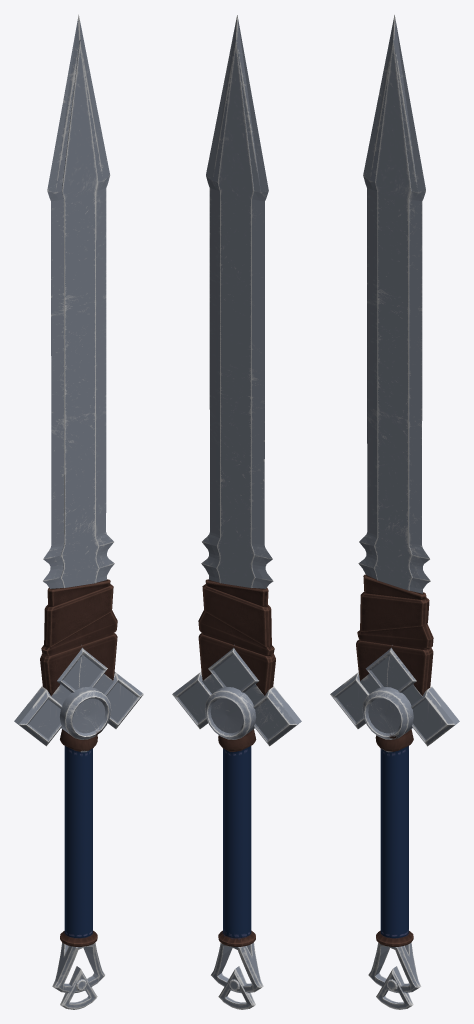
File: sword.fbx
The picture shows the model from 3 angles, left to right: view 1: azimuth 30°, elevation 25°; view 2: azimuth 150°, elevation 25°; view 3: azimuth 330°, elevation 25°; orthographic projection.
Visible parts, largest first — view 1: Sword; view 2: Sword; view 3: Sword.
Boxes of the visible parts, box(x1,y1,x2,y2) form: Sword: box(14, 14, 143, 1009); Sword: box(172, 15, 301, 1009); Sword: box(330, 15, 459, 1009).
Size of the model in its own units: 0.1233 by 0.9351 by 0.0395.
1 material, 1 textured.
